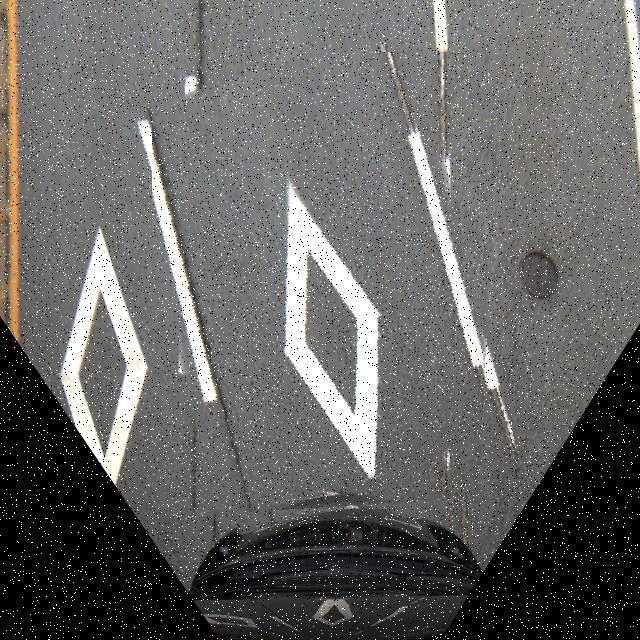diamond: (152, 52, 500, 520)
